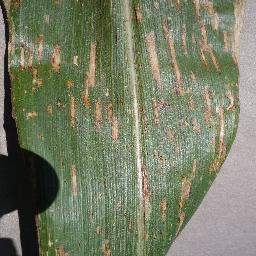Gray_Leaf_Spot: (0, 8, 16, 74), (222, 28, 245, 69), (84, 35, 100, 88), (4, 77, 20, 129), (205, 142, 232, 172), (11, 30, 28, 77), (215, 101, 230, 139), (32, 211, 44, 256), (107, 101, 119, 145), (222, 81, 238, 114), (195, 13, 213, 42), (232, 76, 247, 110), (49, 42, 63, 77), (149, 53, 161, 93), (231, 0, 248, 28), (165, 37, 180, 68), (149, 88, 161, 125), (170, 67, 183, 101), (66, 92, 76, 135), (130, 48, 143, 80), (68, 161, 78, 200), (140, 187, 155, 213), (27, 66, 43, 89), (160, 196, 171, 229), (94, 97, 103, 136), (178, 175, 191, 202), (190, 0, 215, 14), (144, 208, 154, 242), (211, 51, 226, 73), (140, 157, 150, 190), (205, 82, 213, 123), (160, 12, 173, 37), (177, 18, 190, 42), (187, 68, 199, 94), (156, 149, 169, 172), (183, 95, 199, 113), (189, 113, 201, 137), (143, 29, 154, 55), (131, 0, 143, 23), (140, 103, 147, 142), (128, 211, 137, 241), (36, 32, 44, 65), (82, 85, 93, 109), (177, 203, 185, 236), (181, 41, 194, 61), (169, 137, 185, 153), (198, 49, 211, 68), (209, 12, 221, 32), (0, 0, 23, 10), (99, 237, 110, 256), (164, 125, 177, 141), (25, 107, 36, 125), (198, 40, 216, 51), (113, 191, 121, 215), (71, 52, 82, 69), (44, 101, 55, 118), (57, 97, 67, 114), (82, 207, 93, 222), (192, 156, 199, 177), (147, 0, 159, 12), (28, 41, 32, 75), (65, 75, 73, 92), (58, 243, 68, 256), (168, 0, 181, 10), (37, 130, 45, 146), (93, 221, 101, 237), (102, 176, 109, 193), (42, 11, 48, 30), (49, 230, 53, 251), (114, 32, 120, 46), (162, 98, 168, 111), (53, 0, 63, 7), (109, 0, 114, 12), (178, 39, 193, 40)
